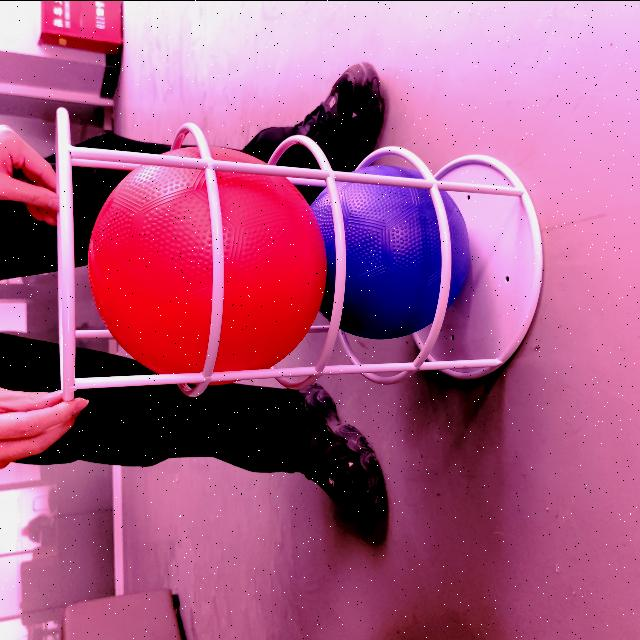B: (313, 155, 469, 343)
R: (88, 141, 326, 385)
S: (35, 114, 583, 390)
